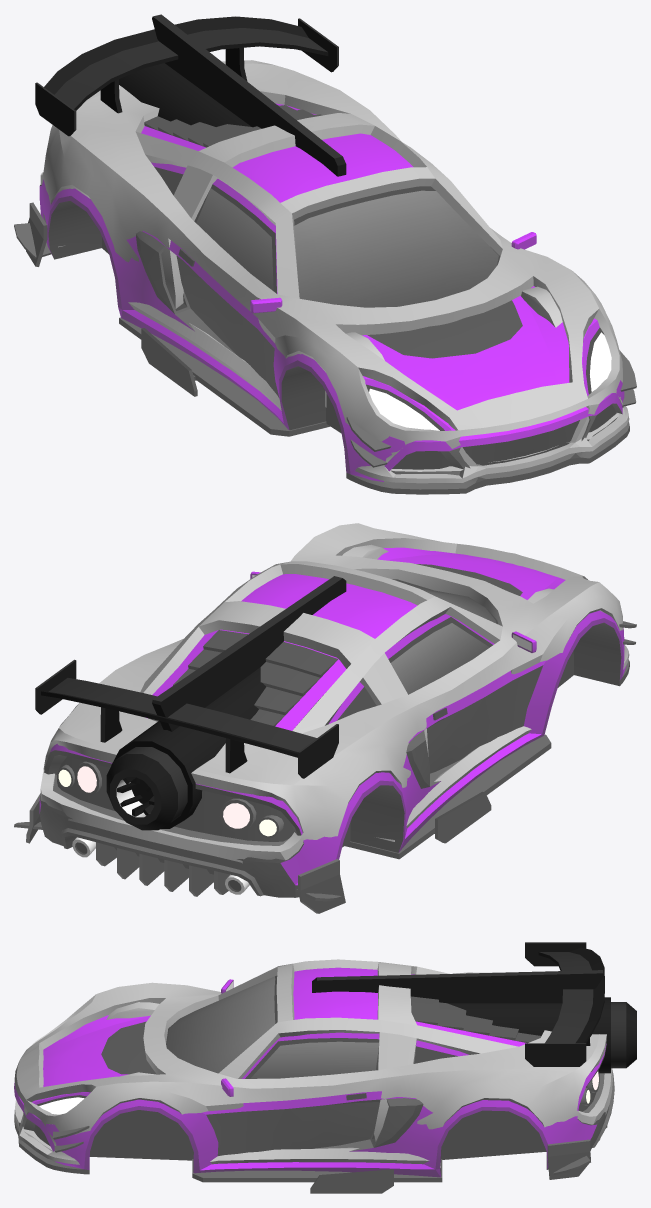
The model's file is supercar.glb.
The picture shows the model from 3 angles, top to bottom: view 1: azimuth 30°, elevation 25°; view 2: azimuth 150°, elevation 25°; view 3: azimuth 270°, elevation 25°; orthographic projection. The views are drawn at different scales.
Visible parts, largest first — view 1: body, frame, spoiler, jet; view 2: body, frame, jet, spoiler; view 3: body, frame, jet, spoiler.
Part boxes in pixels (x1,y1,x2,y2): body: [14, 103, 636, 494]; frame: [40, 60, 629, 483]; spoiler: [35, 16, 338, 136]; jet: [119, 14, 346, 176]; body: [14, 547, 636, 913]; frame: [40, 523, 629, 863]; jet: [106, 576, 346, 830]; spoiler: [35, 659, 338, 778]; body: [14, 967, 614, 1193]; frame: [14, 959, 612, 1167]; jet: [312, 970, 636, 1073]; spoiler: [525, 942, 604, 1066].
Bounding box in the file's own units: 2.2 × 1.41 × 4.84.
Materials: 5 (3 with a texture image).
